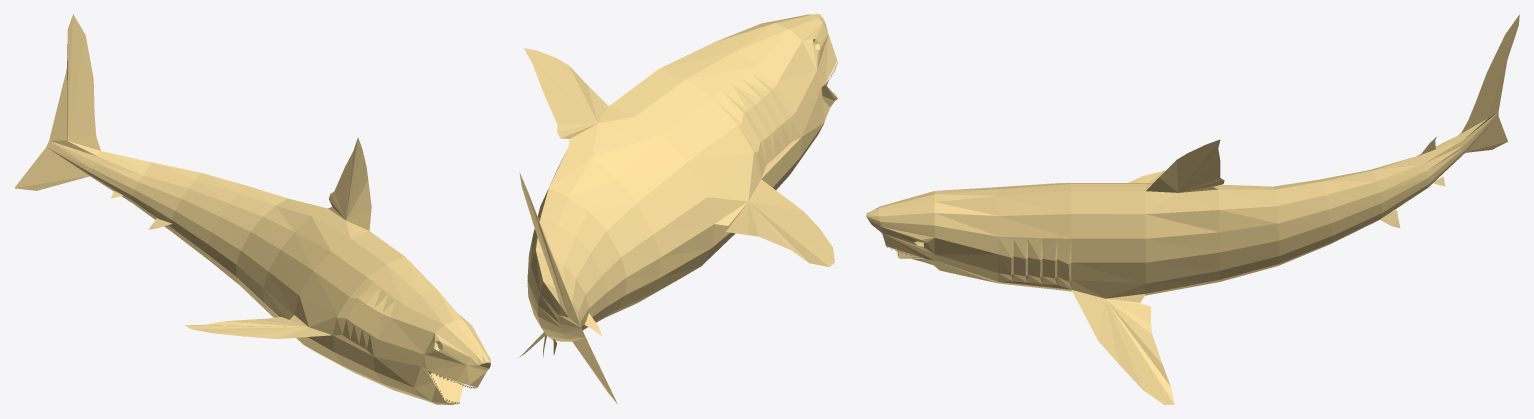
Rendered from shark.gltf.
3 renders of one model, left to right at view 1: azimuth 30°, elevation 25°; view 2: azimuth 150°, elevation 25°; view 3: azimuth 270°, elevation 25°, orthographic. The views are drawn at different scales.
Bounding box in the file's own units: 1.86 × 2.27 × 4.38.
